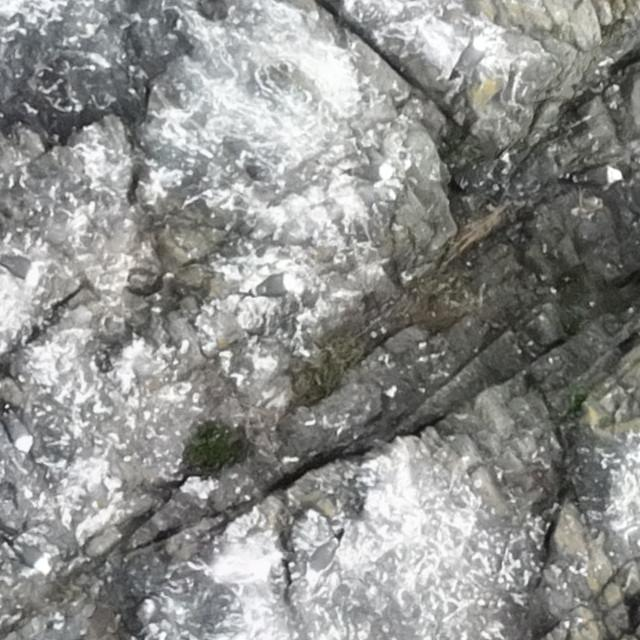umineko: (306, 540, 339, 586), (453, 32, 489, 74), (13, 542, 53, 574), (347, 162, 399, 183), (249, 273, 295, 296), (574, 166, 616, 186), (10, 417, 31, 450), (4, 258, 34, 278)
